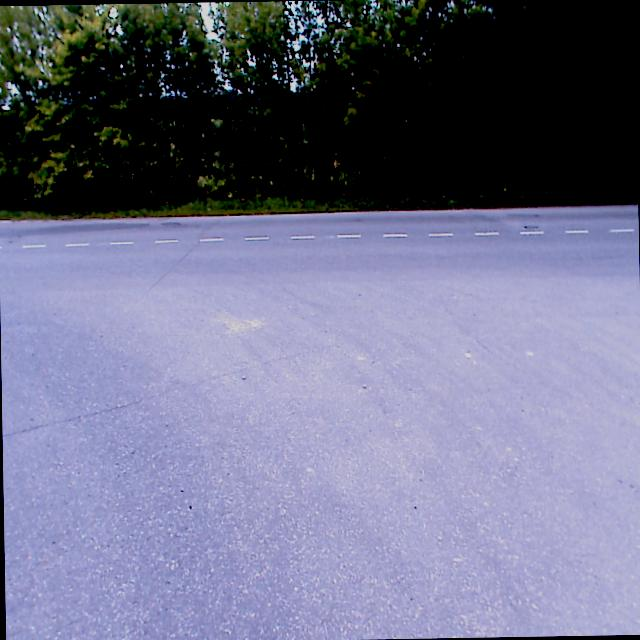road: (0, 205, 640, 640)
